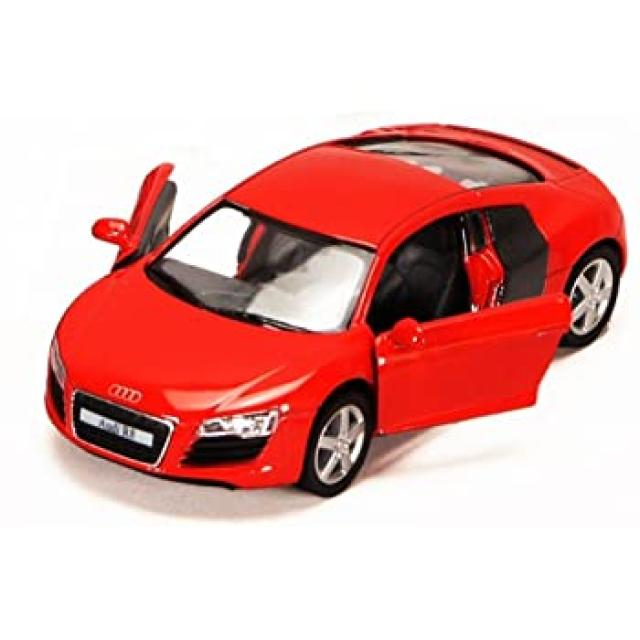Car: (42, 121, 627, 497)
